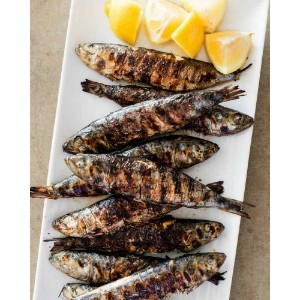sardine_brain food: (64, 102, 238, 224)
